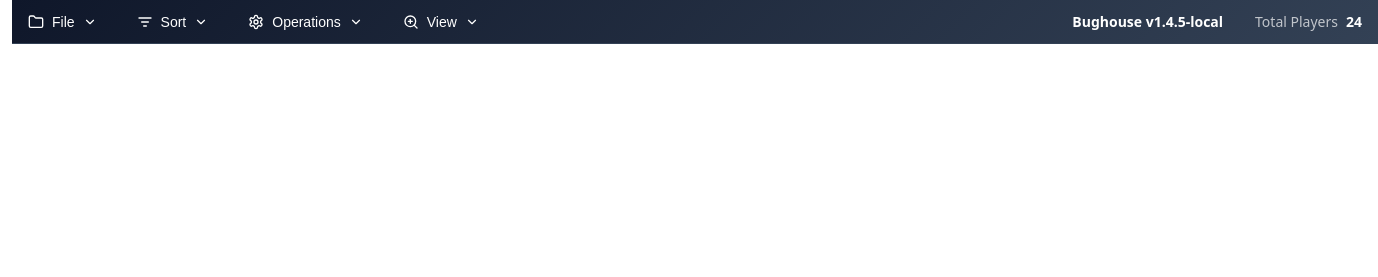
Scenario: MenuBar component › admin mode › Sort menu items › should have all 5 sort options
The image size is (1378, 277).
Step 1. Click the button "Sort" → coordinates (172, 22), box [121,6,224,38]
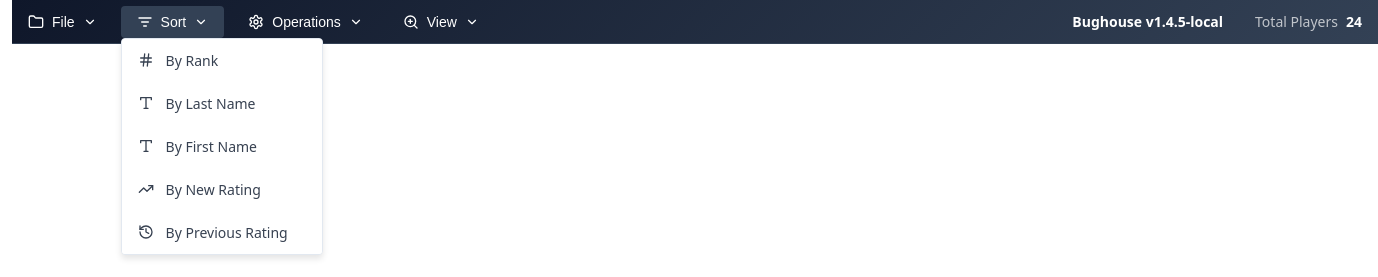
Check: the text "By Rank" is shown, box [166,50,218,70]
Check: the text "By Last Name" is shown, box [166,94,256,112]
Check: the text "By First Name" is shown, box [166,136,257,156]
